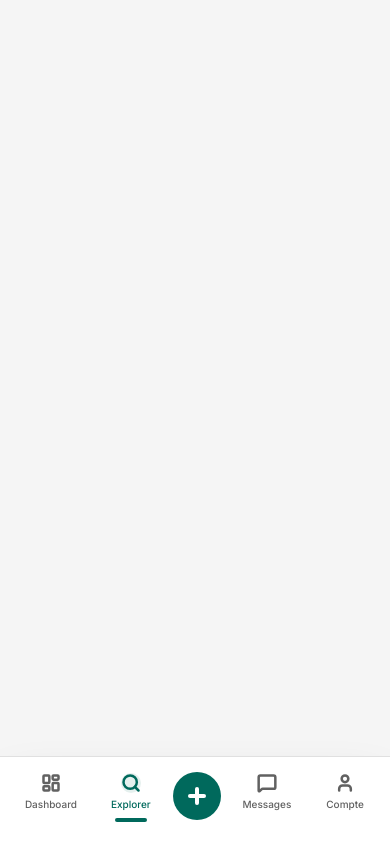
Test: BottomNav - logique metier › ouvre le menu Compte au clic sur le bouton Compte
What coordinates should you click on to do the following:
click the button "Compte"
I would click on:
 (345, 792)
Its box is [313,765,377,820].
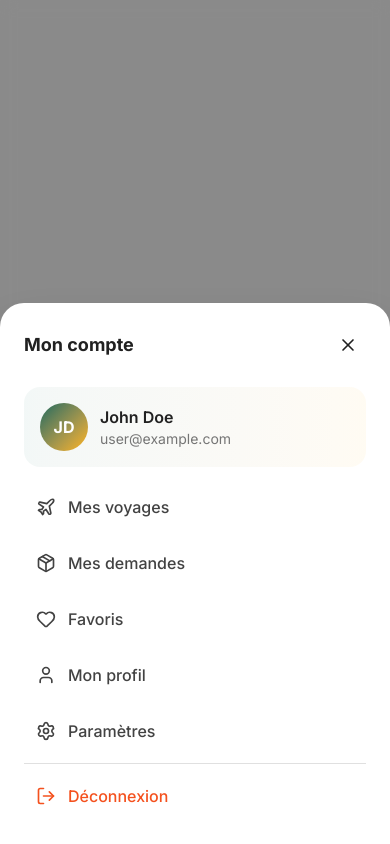
Now the heading "Mon compte" is shown, box [24,331,134,359]
